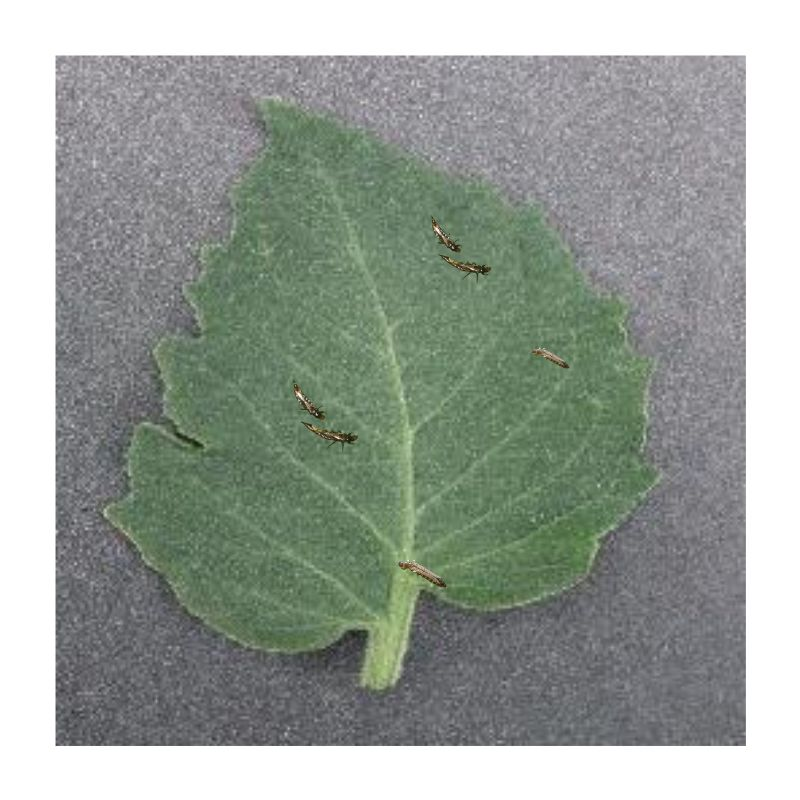thrips: (396, 553, 447, 590), (304, 419, 358, 450), (292, 382, 328, 421), (438, 254, 494, 279), (428, 215, 464, 253), (530, 344, 570, 372)
